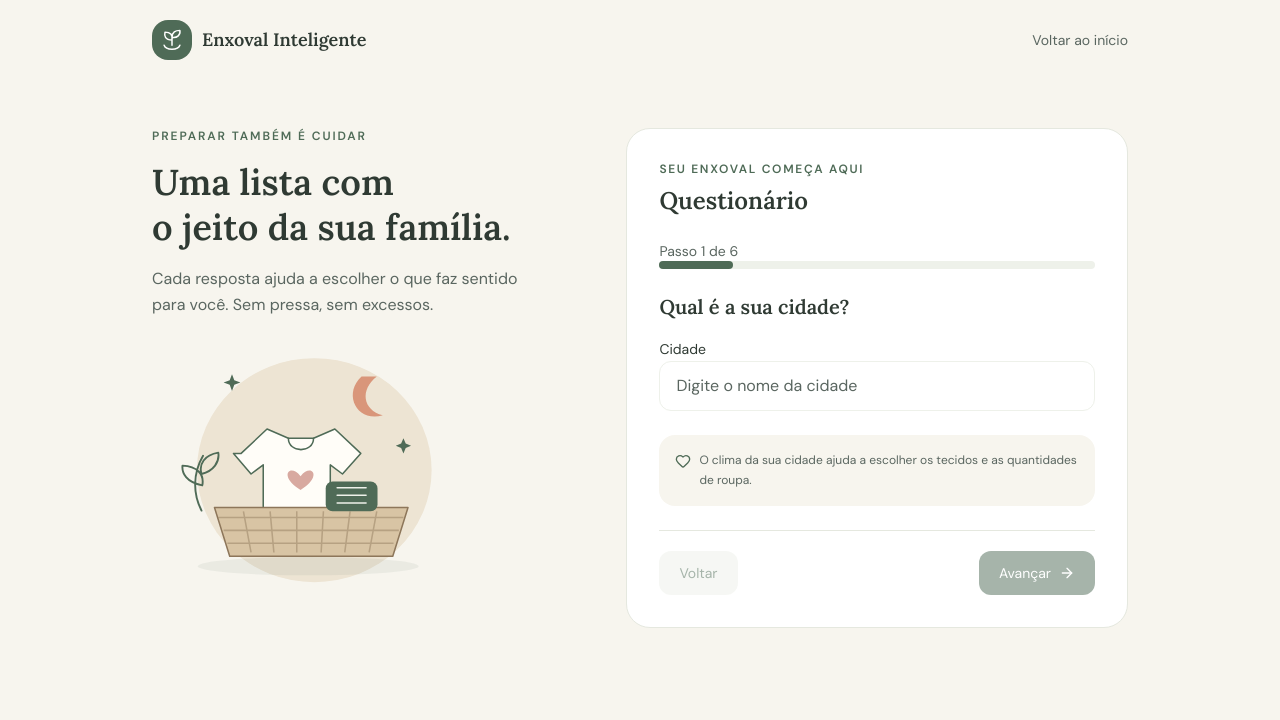
Questionario › Avançar fica desabilitado até escolher uma cidade, e habilita depois
Expected: the button "Avançar" is disabled, [979,551,1095,595]
Type "curitiba" into the field labelled "Cidade". click: (877, 386)
box: [659,361,1095,411]
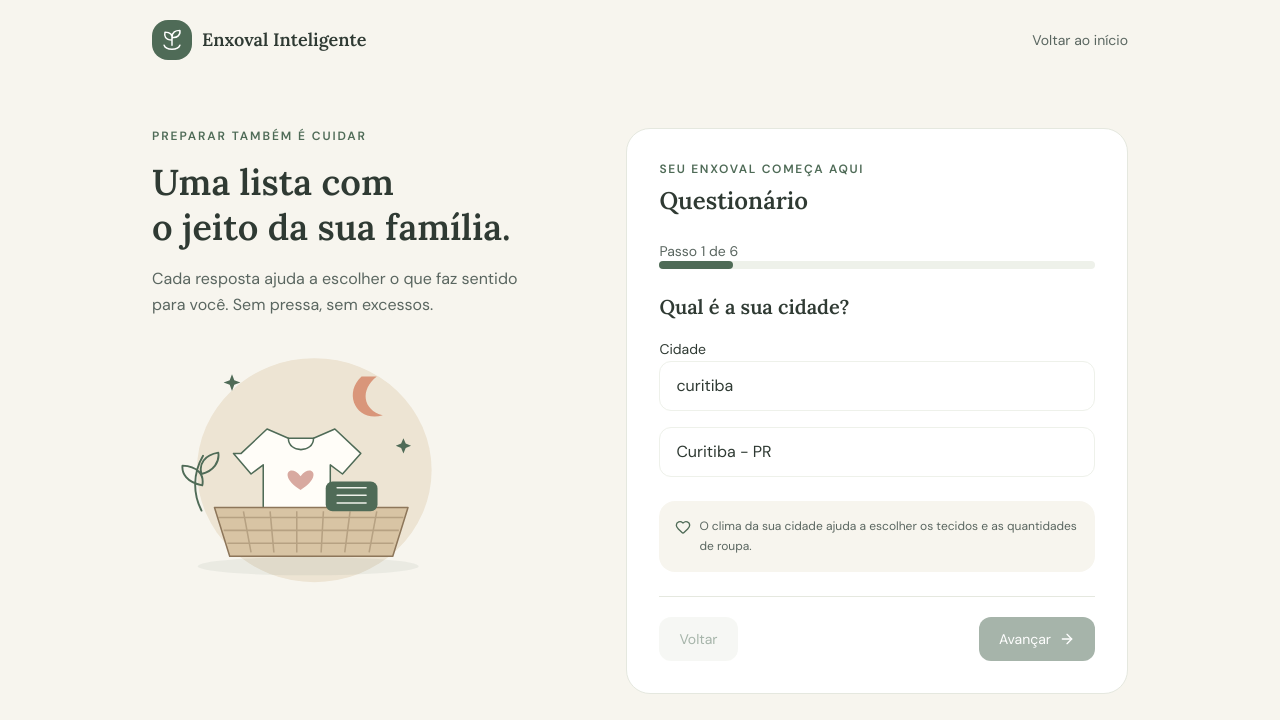
Now the button "Curitiba - PR" is shown
Click the button "Curitiba - PR". click: (706, 452)
box: [660,428,1094,476]
(page scrolled)
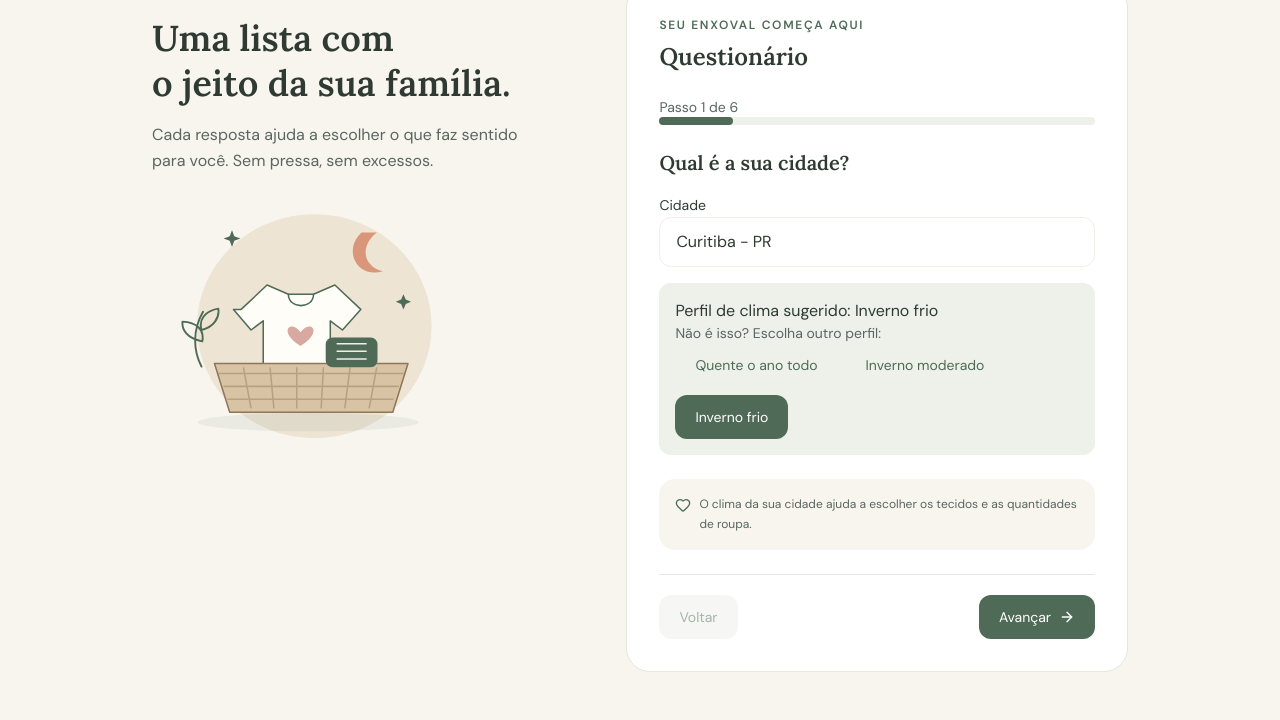
Now the button "Avançar" is enabled, box [979,595,1095,639]
